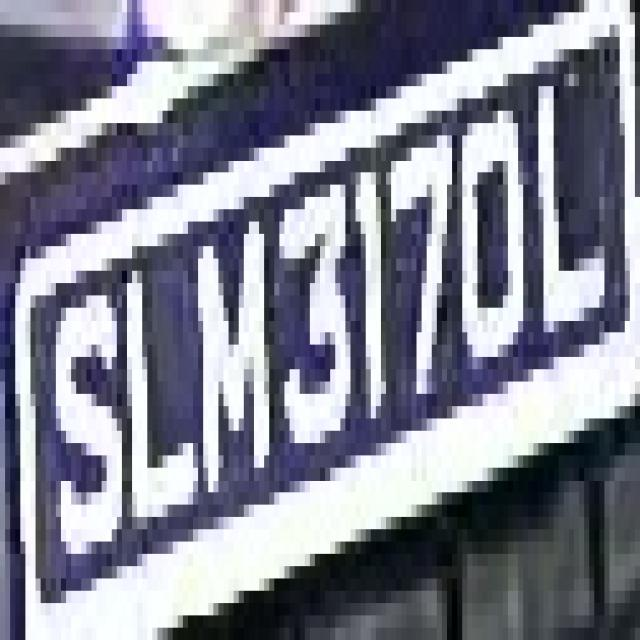0: (447, 49, 518, 382)
1: (356, 148, 396, 480)
3: (264, 197, 366, 492)
7: (376, 111, 467, 431)
L: (518, 62, 620, 320), (122, 234, 198, 529)
M: (183, 148, 279, 504)
S: (31, 283, 132, 566)
